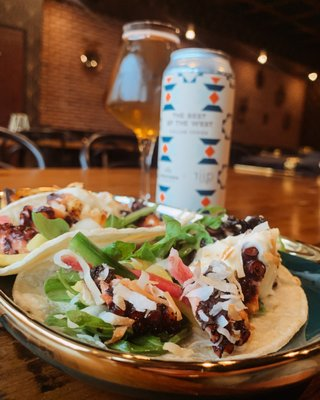burger: (157, 48, 236, 213)
curry: (0, 31, 320, 398), (0, 154, 320, 397)
pasta: (0, 127, 45, 169)
sandwich: (2, 186, 299, 364), (105, 21, 182, 205)
